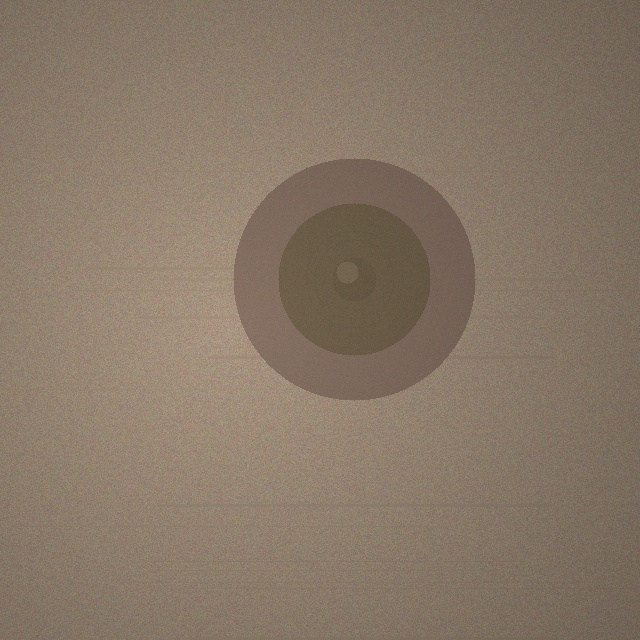good: (233, 158, 475, 400)
